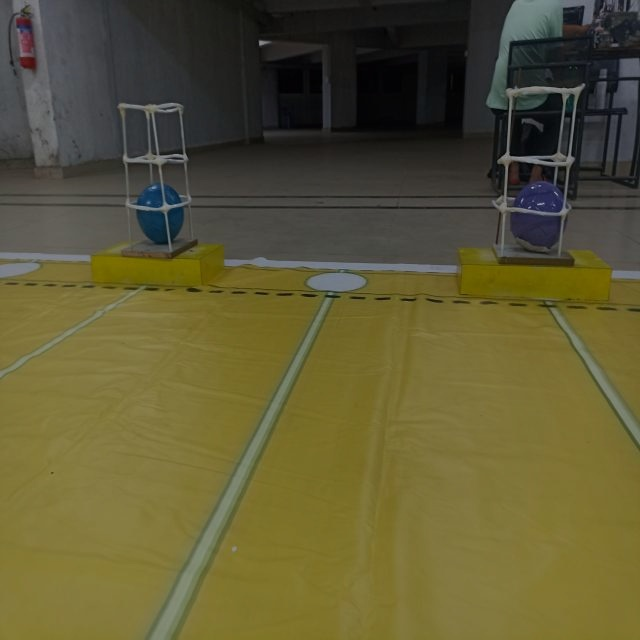blue_ball: (134, 182, 184, 242)
purple_ball: (514, 182, 562, 248)
silo: (492, 84, 584, 265), (116, 96, 197, 259)
